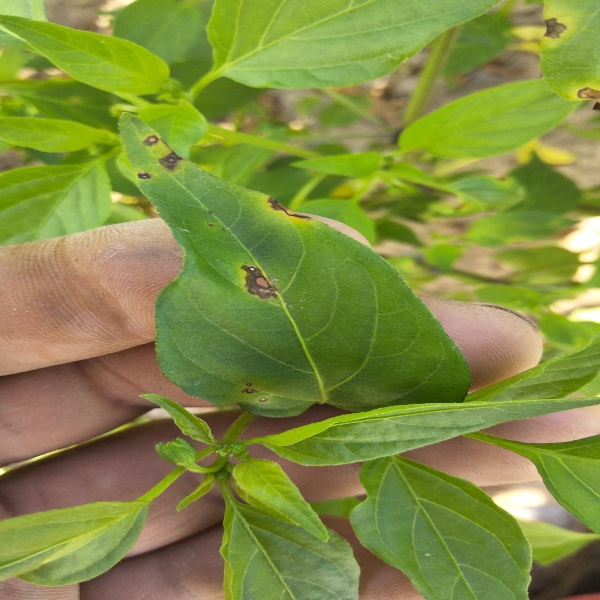Anthrax: (236, 188, 310, 303), (539, 15, 600, 102), (126, 127, 188, 188), (227, 369, 282, 413)
